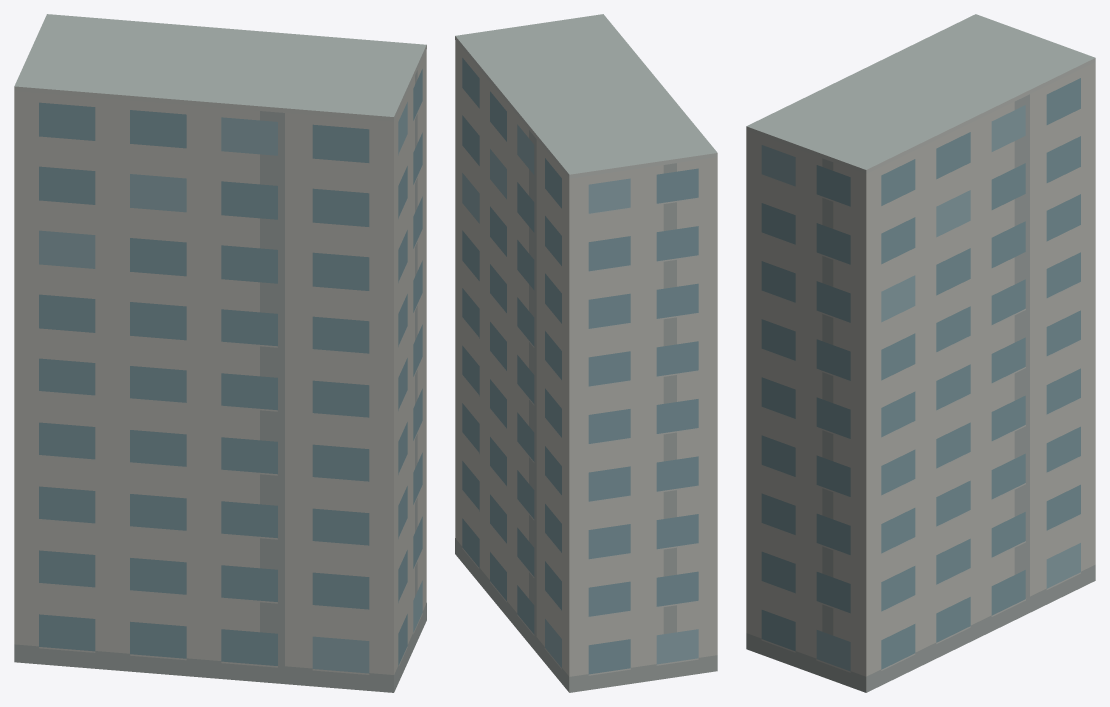
The model's file is residential-00c407aa-af8f-4379-9f35-6412a247ce79.glb.
3 renders of one model, left to right at view 1: azimuth 30°, elevation 25°; view 2: azimuth 150°, elevation 25°; view 3: azimuth 270°, elevation 25°, orthographic. The views are drawn at different scales.
Parts seen in each view (by area): view 1: residential-00c407aa-af8f-4379-9f35-6412a247ce79.tmp; view 2: residential-00c407aa-af8f-4379-9f35-6412a247ce79.tmp; view 3: residential-00c407aa-af8f-4379-9f35-6412a247ce79.tmp.
Boxes of the visible parts, left/top/right/bottom form: residential-00c407aa-af8f-4379-9f35-6412a247ce79.tmp: left=14, top=14, right=426, bottom=692; residential-00c407aa-af8f-4379-9f35-6412a247ce79.tmp: left=455, top=14, right=717, bottom=692; residential-00c407aa-af8f-4379-9f35-6412a247ce79.tmp: left=746, top=14, right=1095, bottom=692.
Bounding box in the file's own units: 19.21 × 30 × 18.18.
